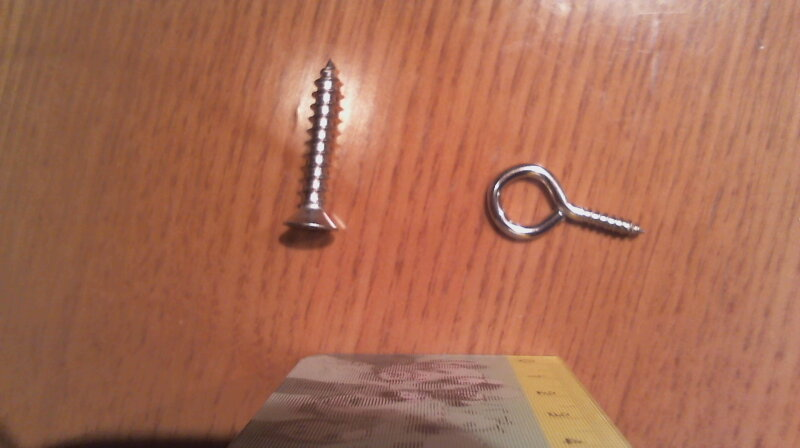O001: (480, 159, 652, 248)
S001: (276, 58, 349, 245)
